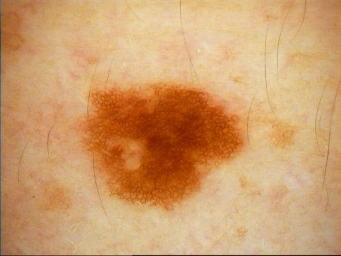nevus: (84, 86, 244, 206)
